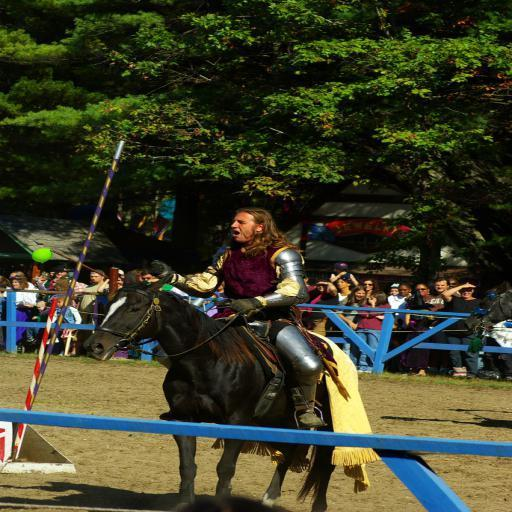horse: (80, 266, 356, 512)
